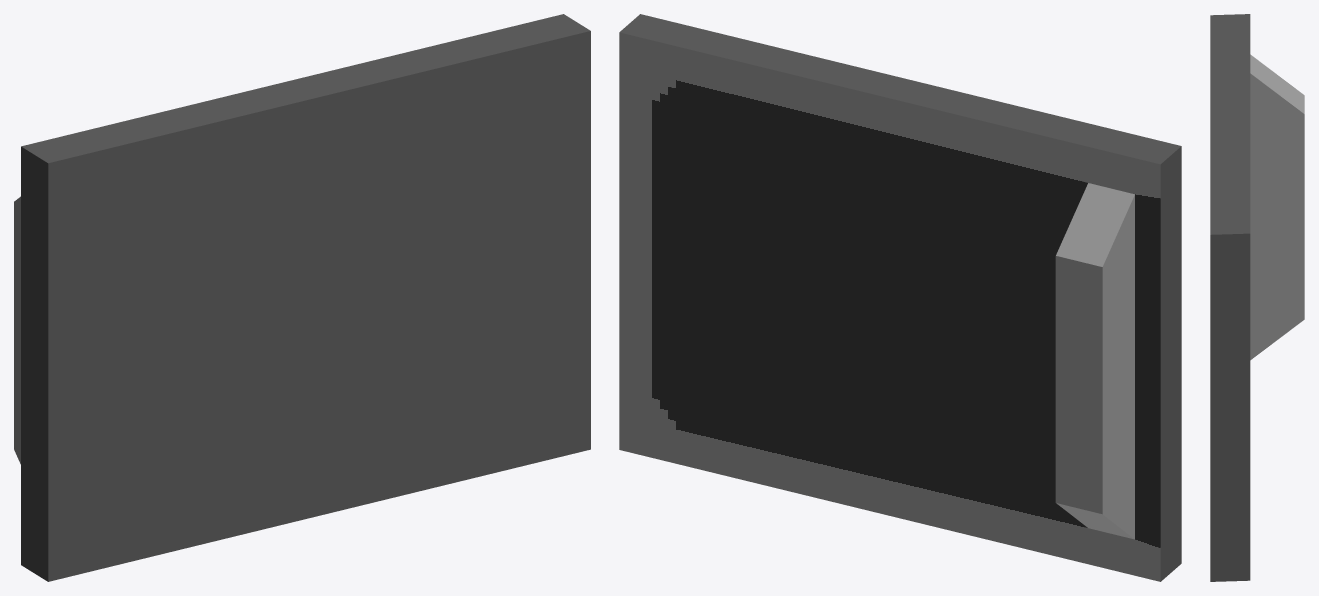
Rendered from microwave_door.glb.
3 views of the same model, side by side, from view 1: azimuth 30°, elevation 25°; view 2: azimuth 150°, elevation 25°; view 3: azimuth 270°, elevation 25° (orthographic). The views are drawn at different scales.
Visible parts, largest first — view 1: Cube.001; view 2: Cube.001; view 3: Cube.001.
Part boxes in pixels (x1,y1,x2,y2): Cube.001: [14, 14, 590, 581]; Cube.001: [619, 14, 1181, 581]; Cube.001: [1210, 14, 1304, 581].
Bounding box in the file's own units: 42.29 × 31 × 7.61.
1 material, 1 textured.
